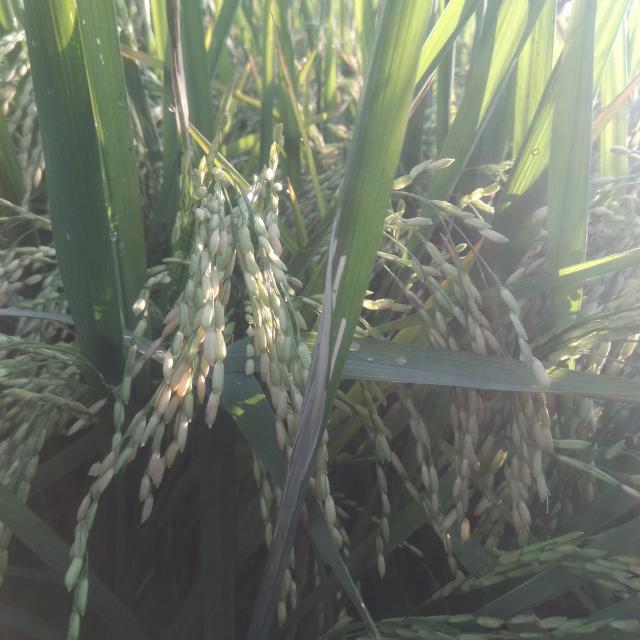Brown spot: (590, 71, 640, 142)
brown plant hopper: (241, 421, 332, 640), (297, 206, 361, 420)
